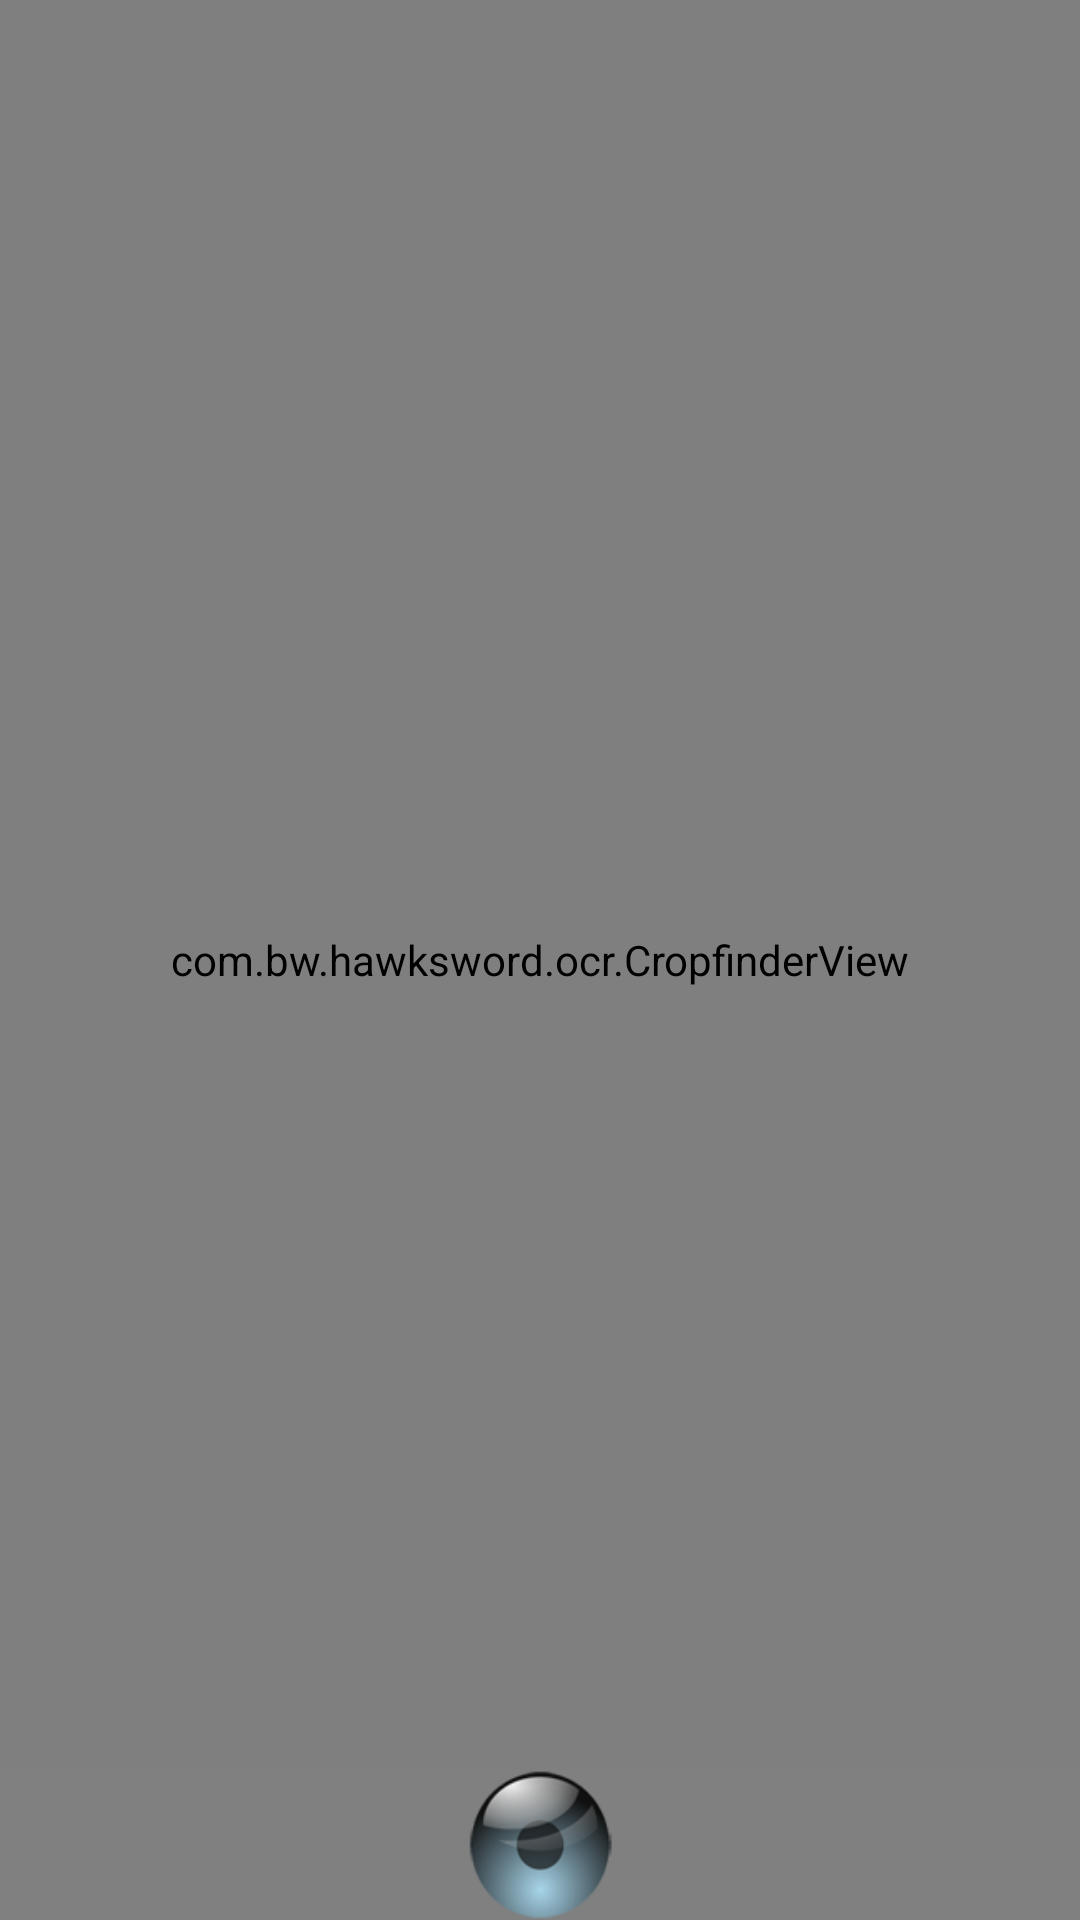

Icons on this 1080×1920 Android screen, each with the point to tap as (x=x, y=y):
shutter: (x=541, y=1844)
